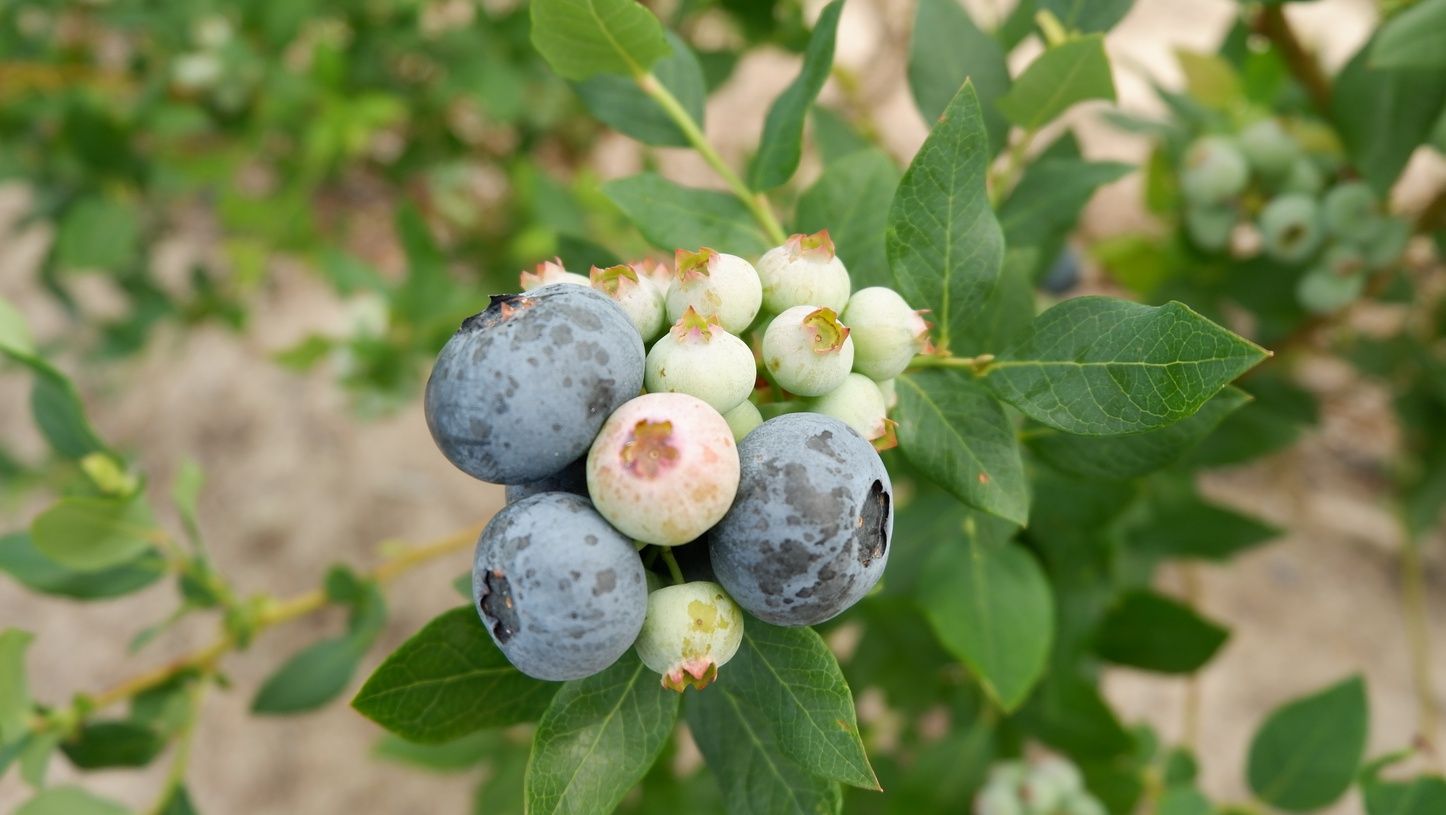Immature: (587, 393, 740, 546), (633, 581, 744, 693), (644, 305, 757, 415), (755, 228, 851, 319), (664, 246, 762, 335), (844, 287, 934, 382), (763, 305, 855, 397), (808, 372, 900, 453), (588, 263, 666, 344), (521, 256, 592, 290), (630, 256, 674, 300), (722, 399, 764, 445), (873, 378, 898, 415)
Mature: (423, 282, 646, 485), (708, 413, 894, 627), (471, 492, 648, 679), (504, 451, 590, 506)
